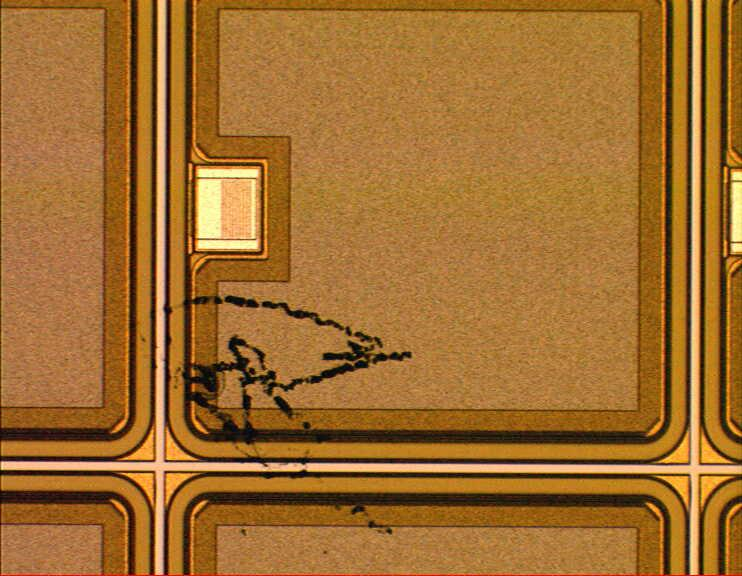SCRATCH: (84, 291, 419, 545)
